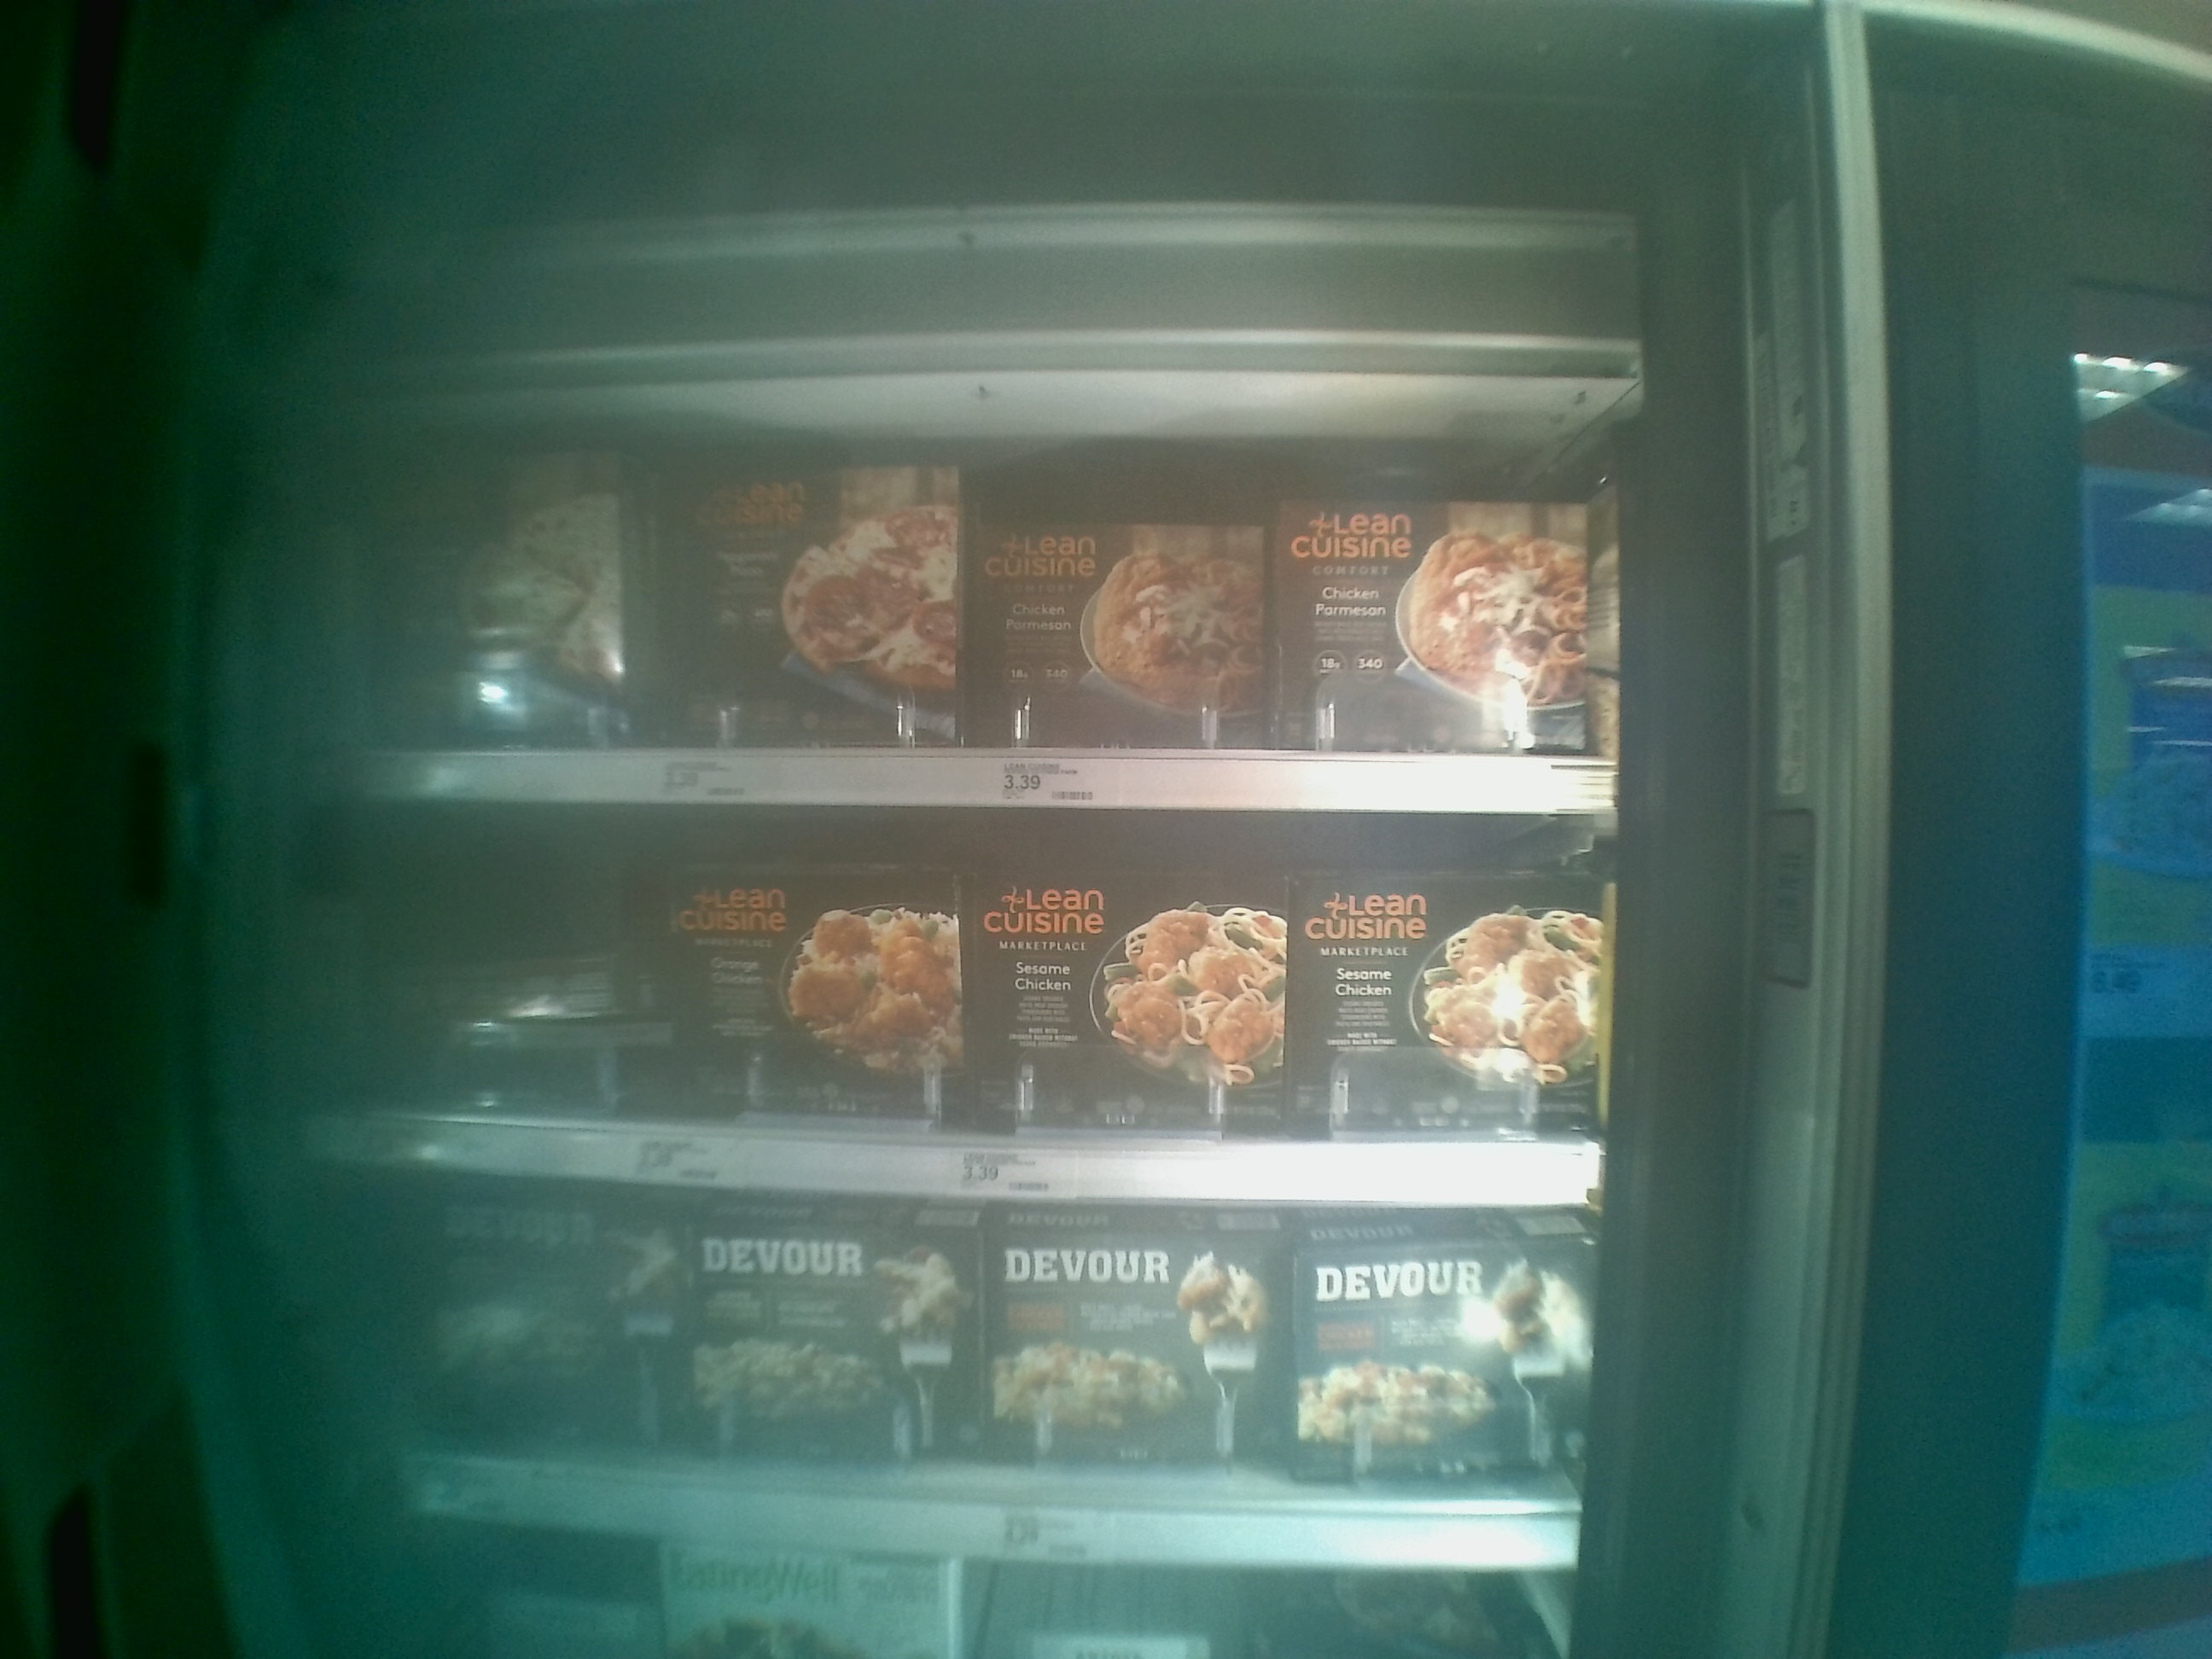shelf: (340, 376, 1601, 819), (315, 802, 1616, 1206), (334, 1173, 1581, 1567)
